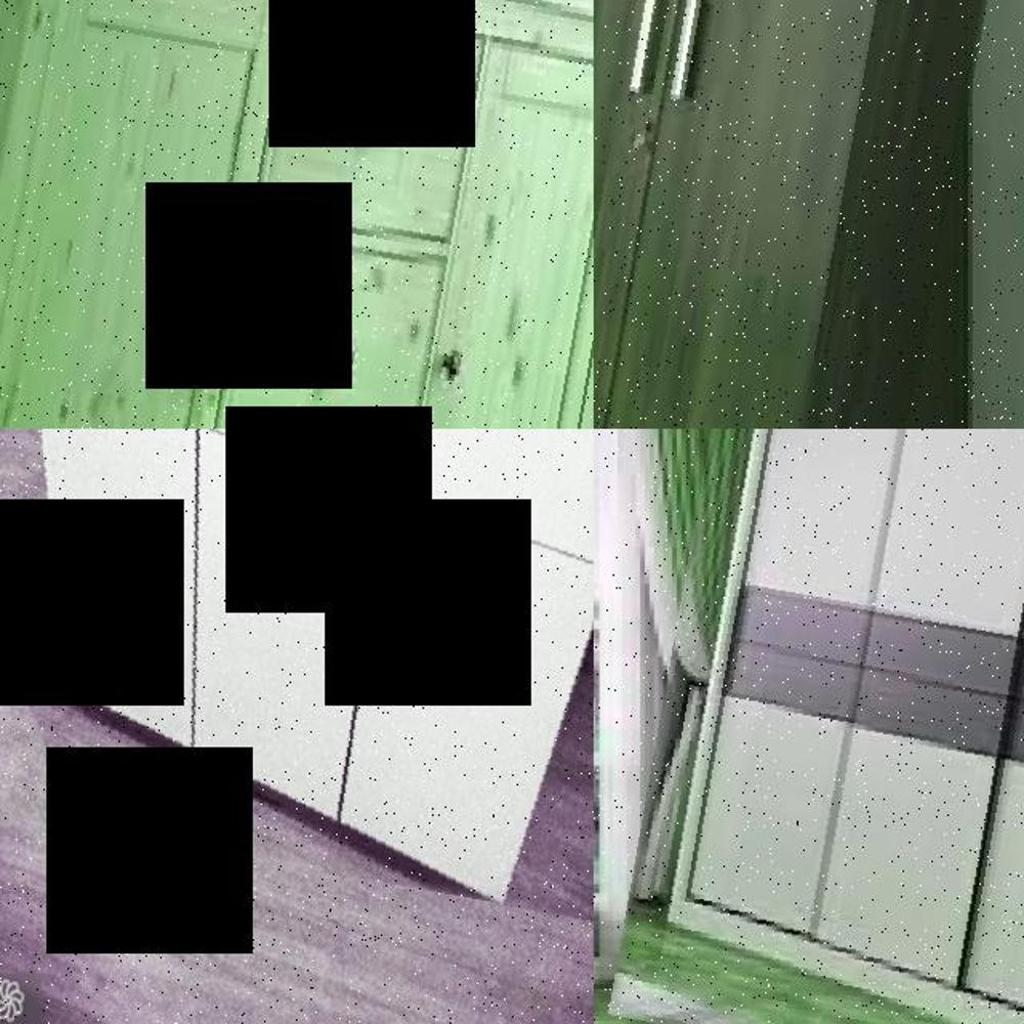cabinet: (0, 0, 594, 429), (643, 429, 1024, 1024)
